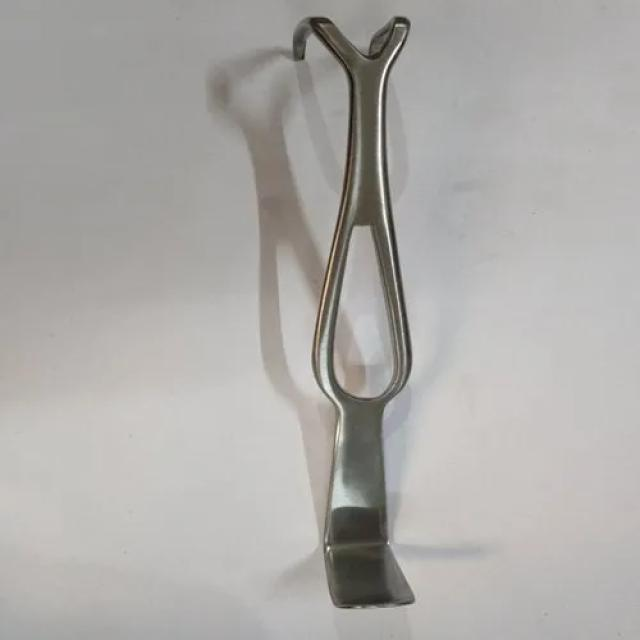Czerny Retractor: (284, 7, 438, 610)
